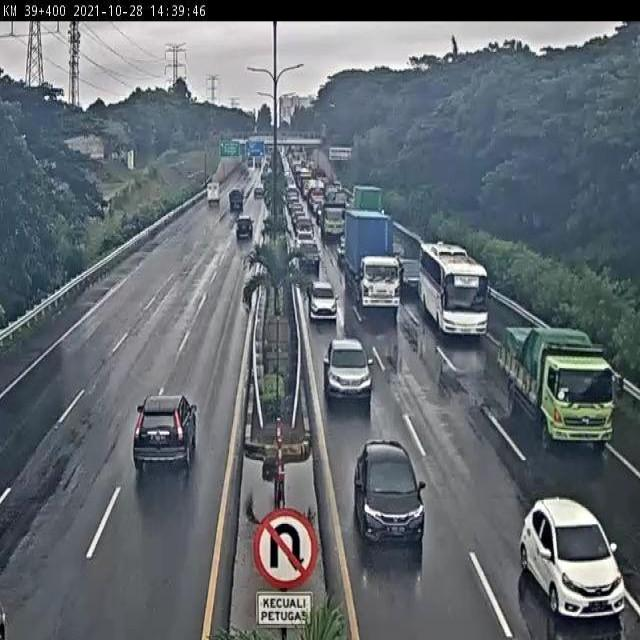big bus: (416, 230, 487, 346)
big truck: (340, 204, 400, 308), (348, 177, 385, 220)
car: (514, 491, 631, 632), (349, 427, 429, 549), (125, 386, 207, 482), (321, 333, 373, 403), (396, 253, 427, 299), (306, 278, 338, 322), (296, 238, 322, 274), (233, 213, 256, 243), (225, 187, 247, 216), (292, 224, 314, 248), (293, 210, 315, 230), (250, 186, 264, 202)
mid truck: (494, 320, 623, 460), (313, 196, 347, 239)
small truck: (203, 178, 223, 210)
